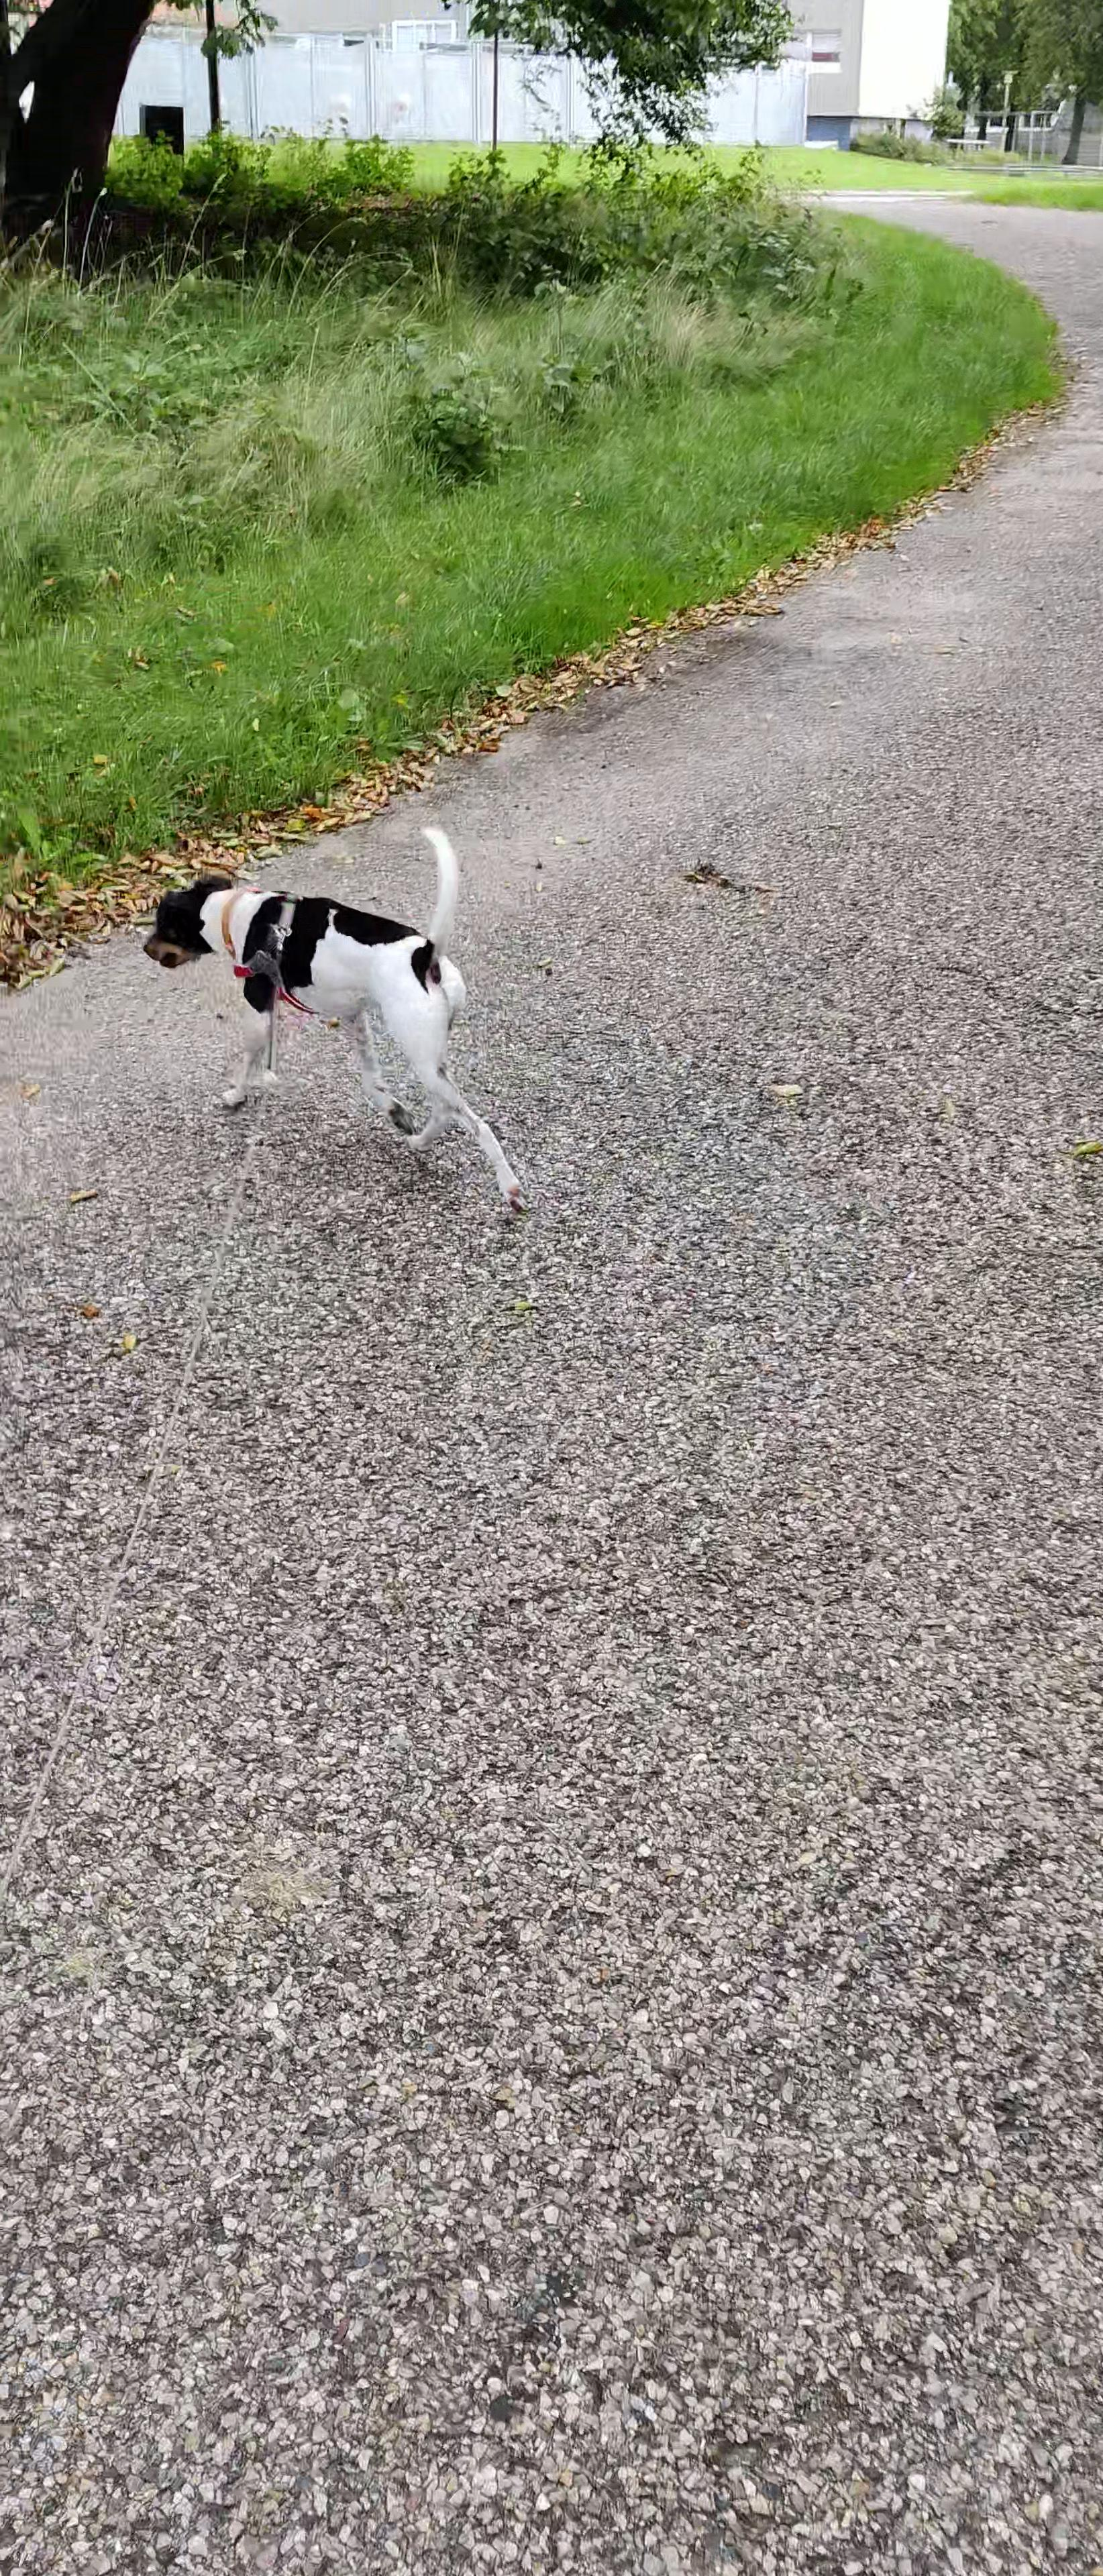Dog: (135, 816, 528, 1214)
